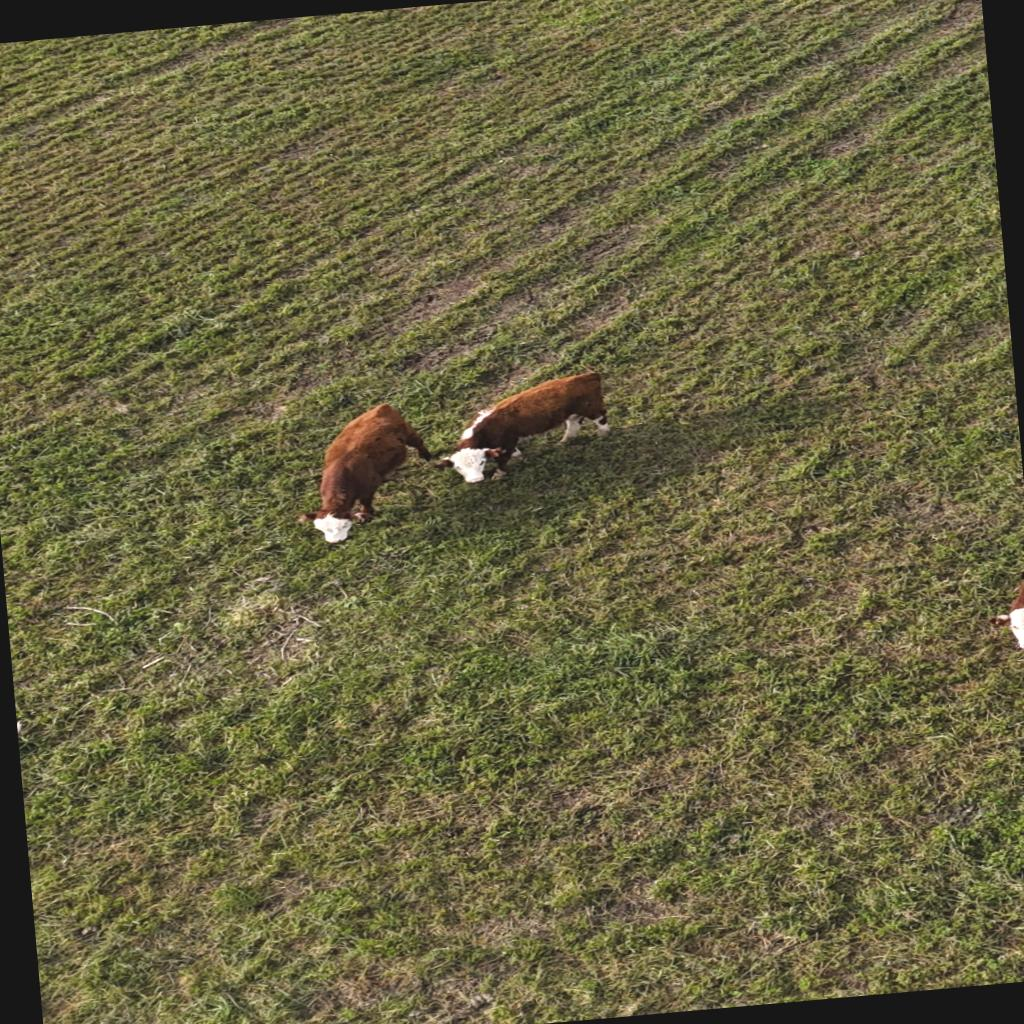cow: (424, 368, 618, 488), (286, 399, 442, 544), (990, 567, 1024, 653)
